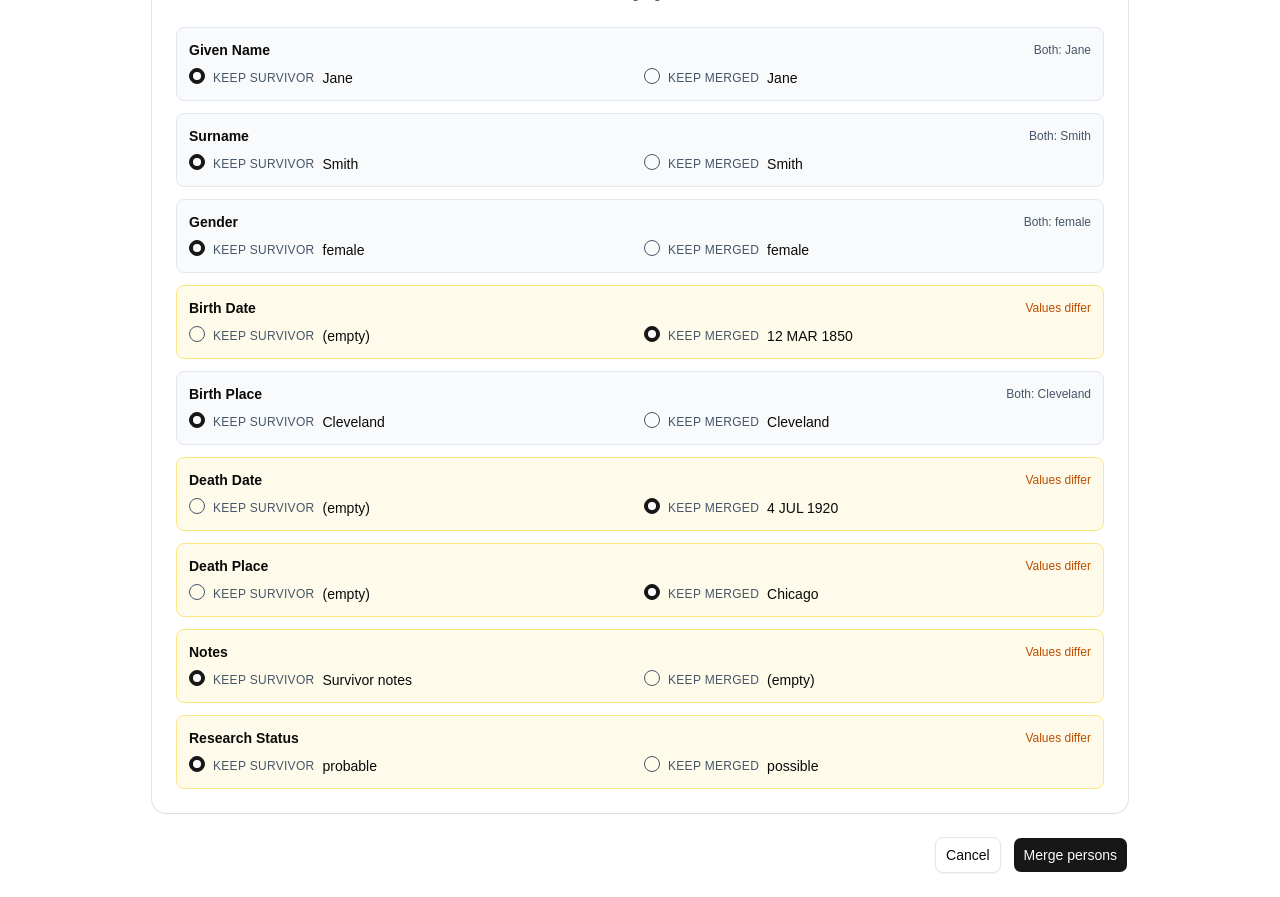
Test: Merge Picker Page › merges on a research branch and says the mainline is unaffected
The image size is (1280, 897).
(page scrolled)
Click the button "Merge persons" at (1070, 855), box [1013,837,1128,873]
(page scrolled)
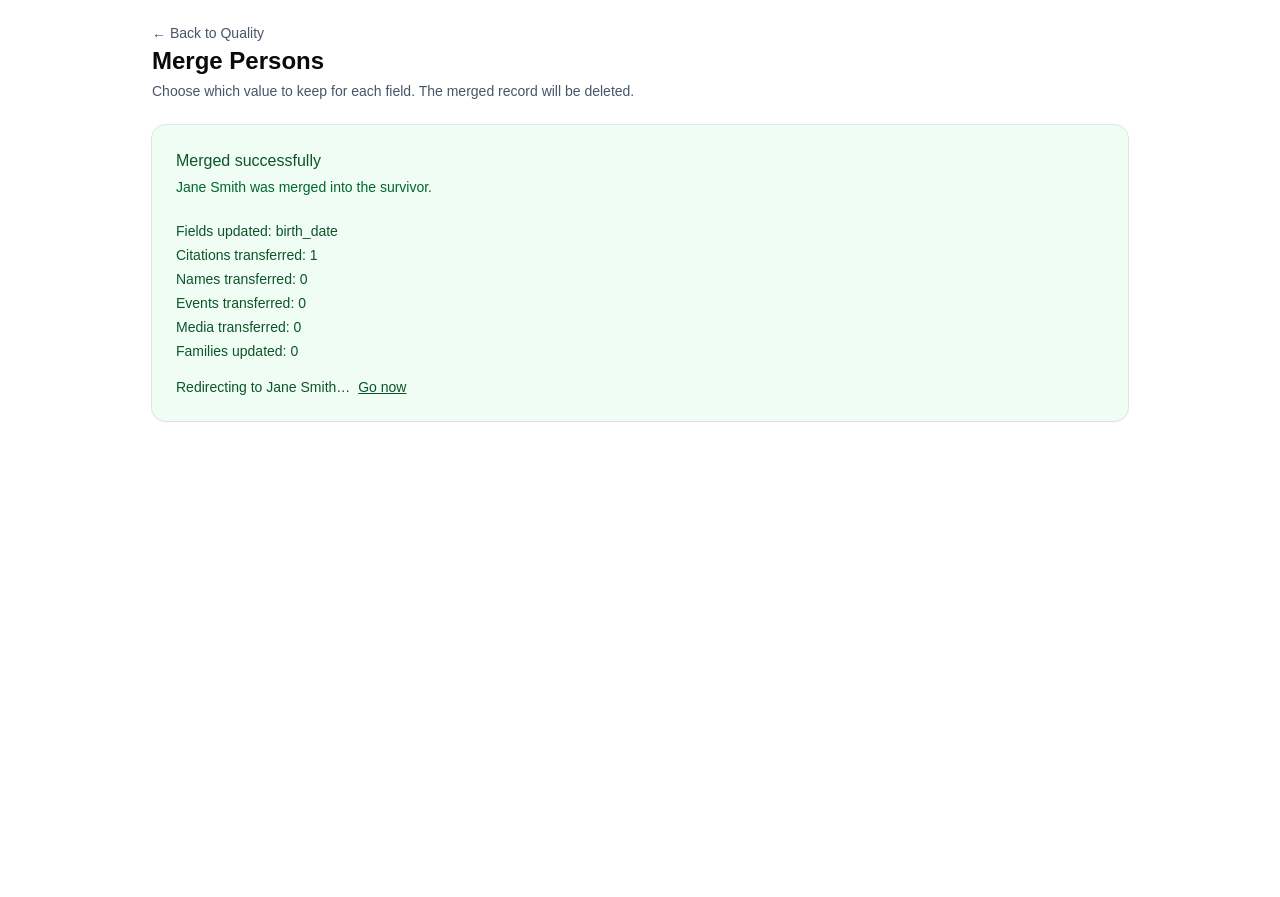
Result: the text "Merged successfully" is shown at [176,152,321,169]
